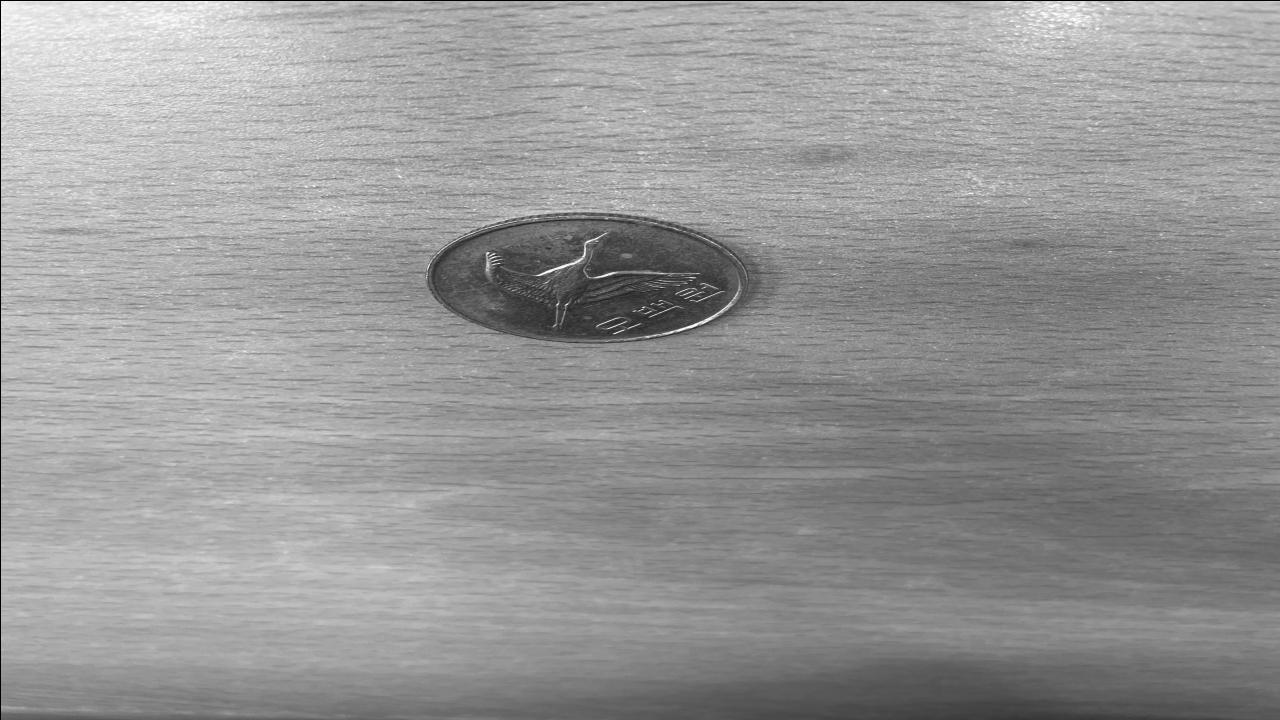coin: (423, 213, 755, 345)
